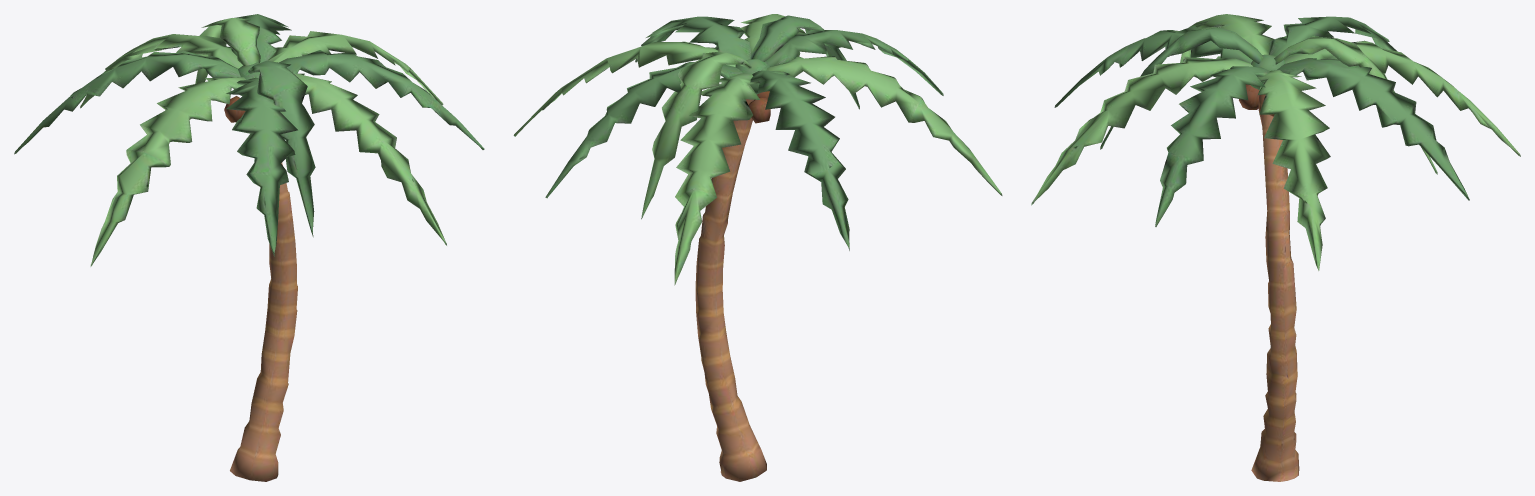
The model's file is palm-tree.glb.
3 renders of one model, left to right at view 1: azimuth 30°, elevation 25°; view 2: azimuth 150°, elevation 25°; view 3: azimuth 270°, elevation 25°, orthographic.
Parts seen in each view (by area): view 1: palm-tree_body; view 2: palm-tree_body; view 3: palm-tree_body.
Part boxes in pixels (bbox=[...]): palm-tree_body: bbox=[14, 14, 484, 481]; palm-tree_body: bbox=[513, 14, 1002, 481]; palm-tree_body: bbox=[1031, 14, 1520, 481].
Size of the model in its own units: 5.17 by 5.09 by 5.18.
1 material, 1 textured.
